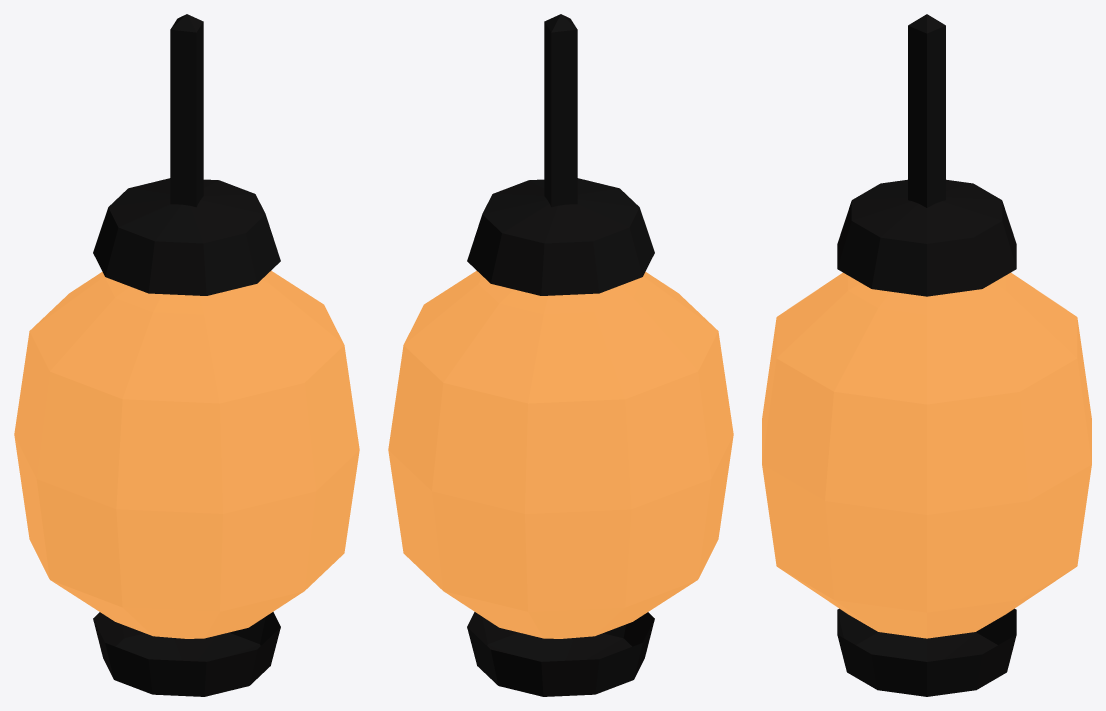
Rendered from boatlamp.glb.
The picture shows the model from 3 angles, left to right: view 1: azimuth 30°, elevation 25°; view 2: azimuth 150°, elevation 25°; view 3: azimuth 270°, elevation 25°; orthographic projection.
Parts seen in each view (by area): view 1: Extra_boat_lantern; view 2: Extra_boat_lantern; view 3: Extra_boat_lantern.
Part boxes in pixels (left/top/right/bottom): Extra_boat_lantern: left=14, top=14, right=359, bottom=696; Extra_boat_lantern: left=388, top=14, right=733, bottom=696; Extra_boat_lantern: left=762, top=14, right=1091, bottom=696.
Size of the model in its own units: 27.2 by 57 by 25.87.
